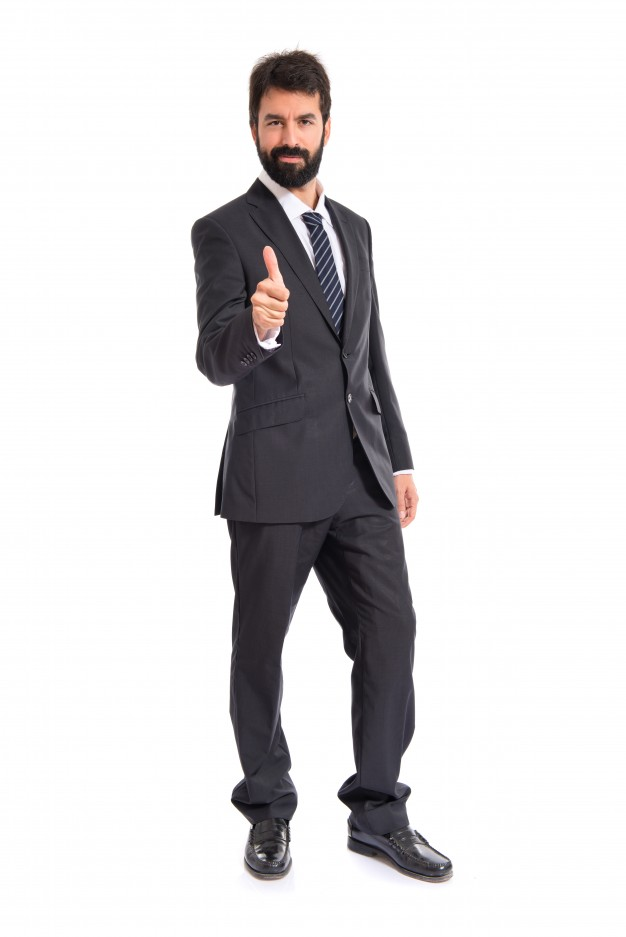thumbsup: (250, 246, 289, 327)
